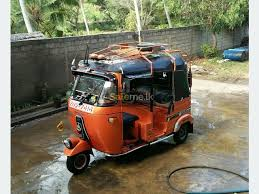tuk tuk: (59, 52, 198, 175)
